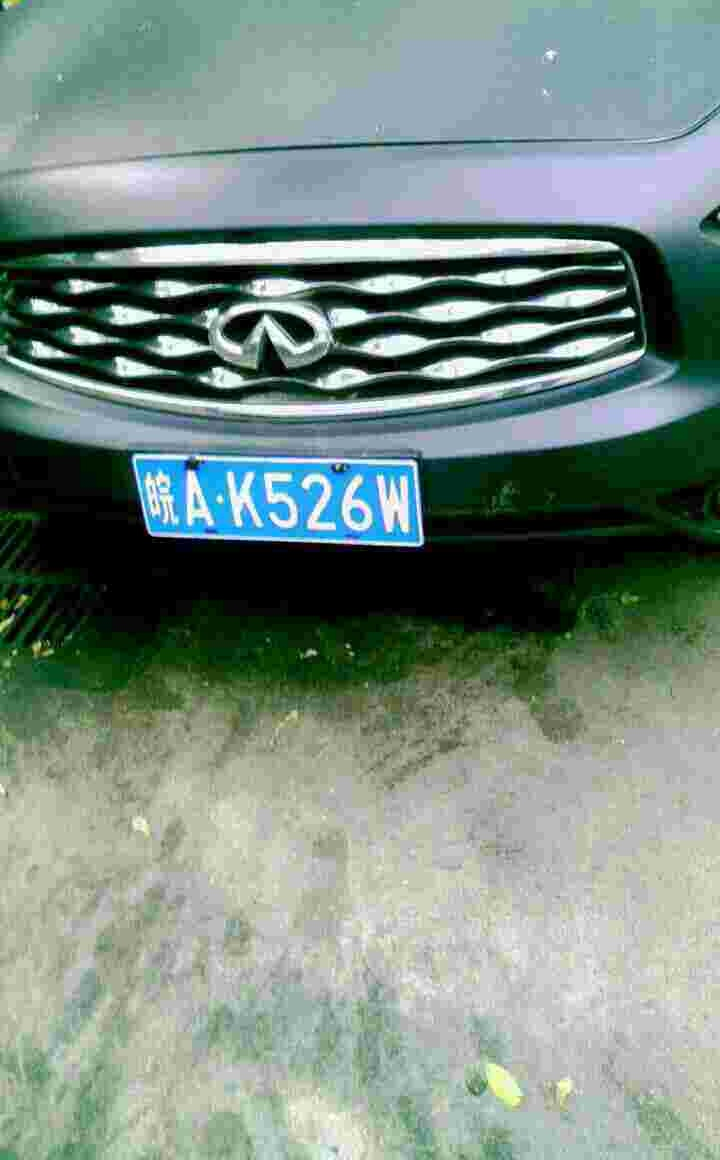license_plate: (145, 462, 429, 551)
